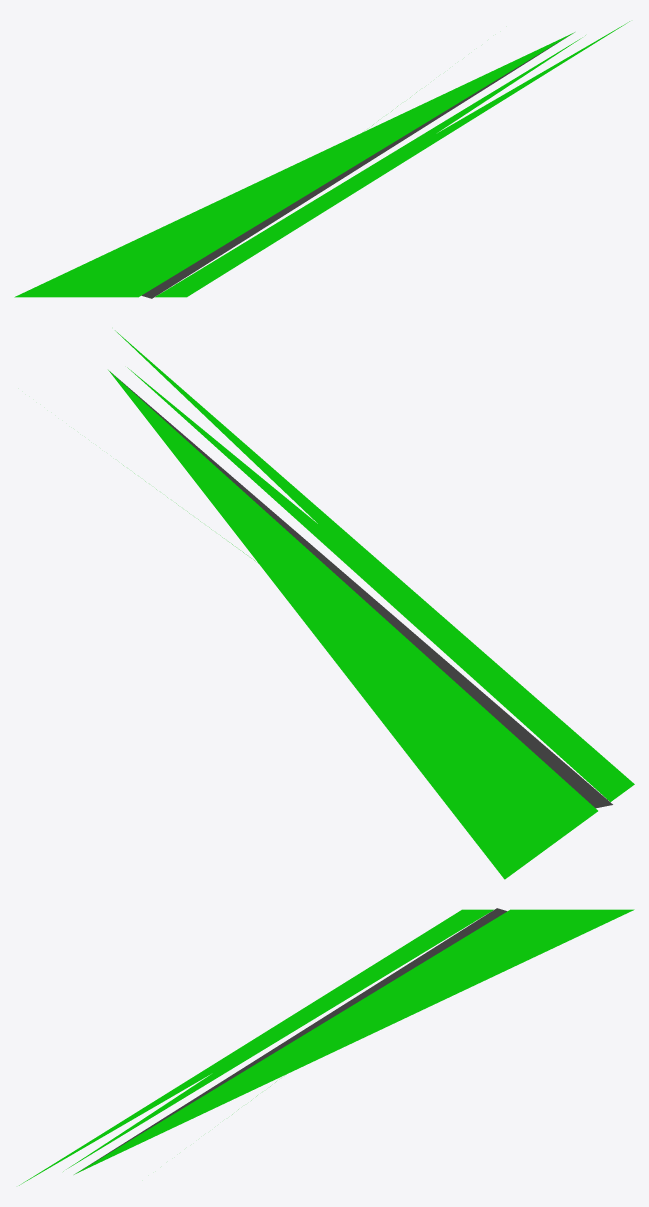
3 renders of one model, top to bottom at view 1: azimuth 90°, elevation 25°; view 2: azimuth 150°, elevation 25°; view 3: azimuth 270°, elevation 25°, orthographic. The views are drawn at different scales.
Bounding box in the file's own units: 181 × 0 × 167.
